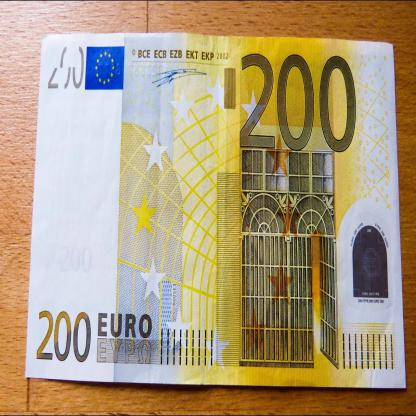euro_banknote: (32, 33, 412, 386)
